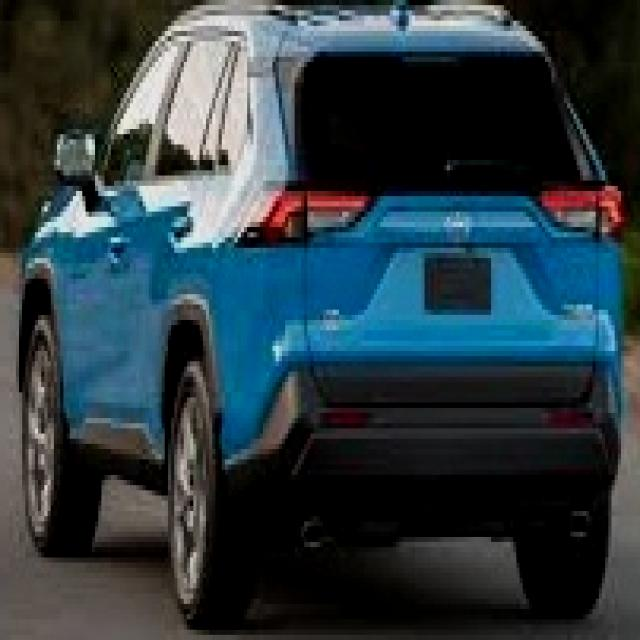blue: (0, 0, 610, 640)
